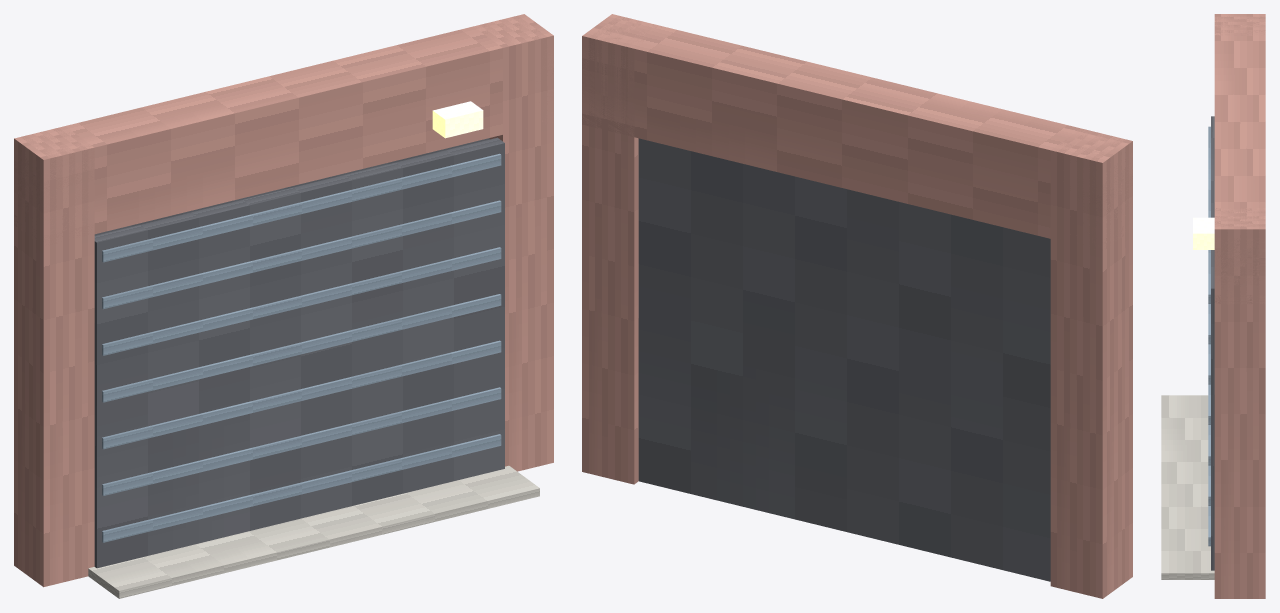
The model's file is pixel-modern-city-street-garage-bay-786c3395__29007.glb.
3 renders of one model, left to right at view 1: azimuth 30°, elevation 25°; view 2: azimuth 150°, elevation 25°; view 3: azimuth 270°, elevation 25°, orthographic. The views are drawn at different scales.
Visible parts, largest first — view 1: garage-bay, shutter/ink, shutter/slate; view 2: garage-bay; view 3: garage-bay, shutter/ink, shutter/slate.
Boxes of the visible parts, x1,y1,x2,y2 form: garage-bay: [14, 14, 553, 598]; shutter/ink: [94, 137, 504, 568]; shutter/slate: [102, 153, 501, 542]; garage-bay: [582, 14, 1132, 598]; garage-bay: [1161, 14, 1265, 598]; shutter/ink: [1211, 116, 1214, 570]; shutter/slate: [1208, 126, 1210, 546].
Bounding box in the file's own units: 4 × 3.2 × 0.8199.
5 materials, 5 textured.
